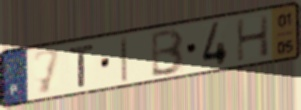4: (200, 19, 230, 68)
7: (32, 46, 62, 98)
B: (149, 26, 186, 79)
H: (234, 13, 271, 64)
I: (119, 34, 130, 85)
T: (68, 43, 97, 90)
